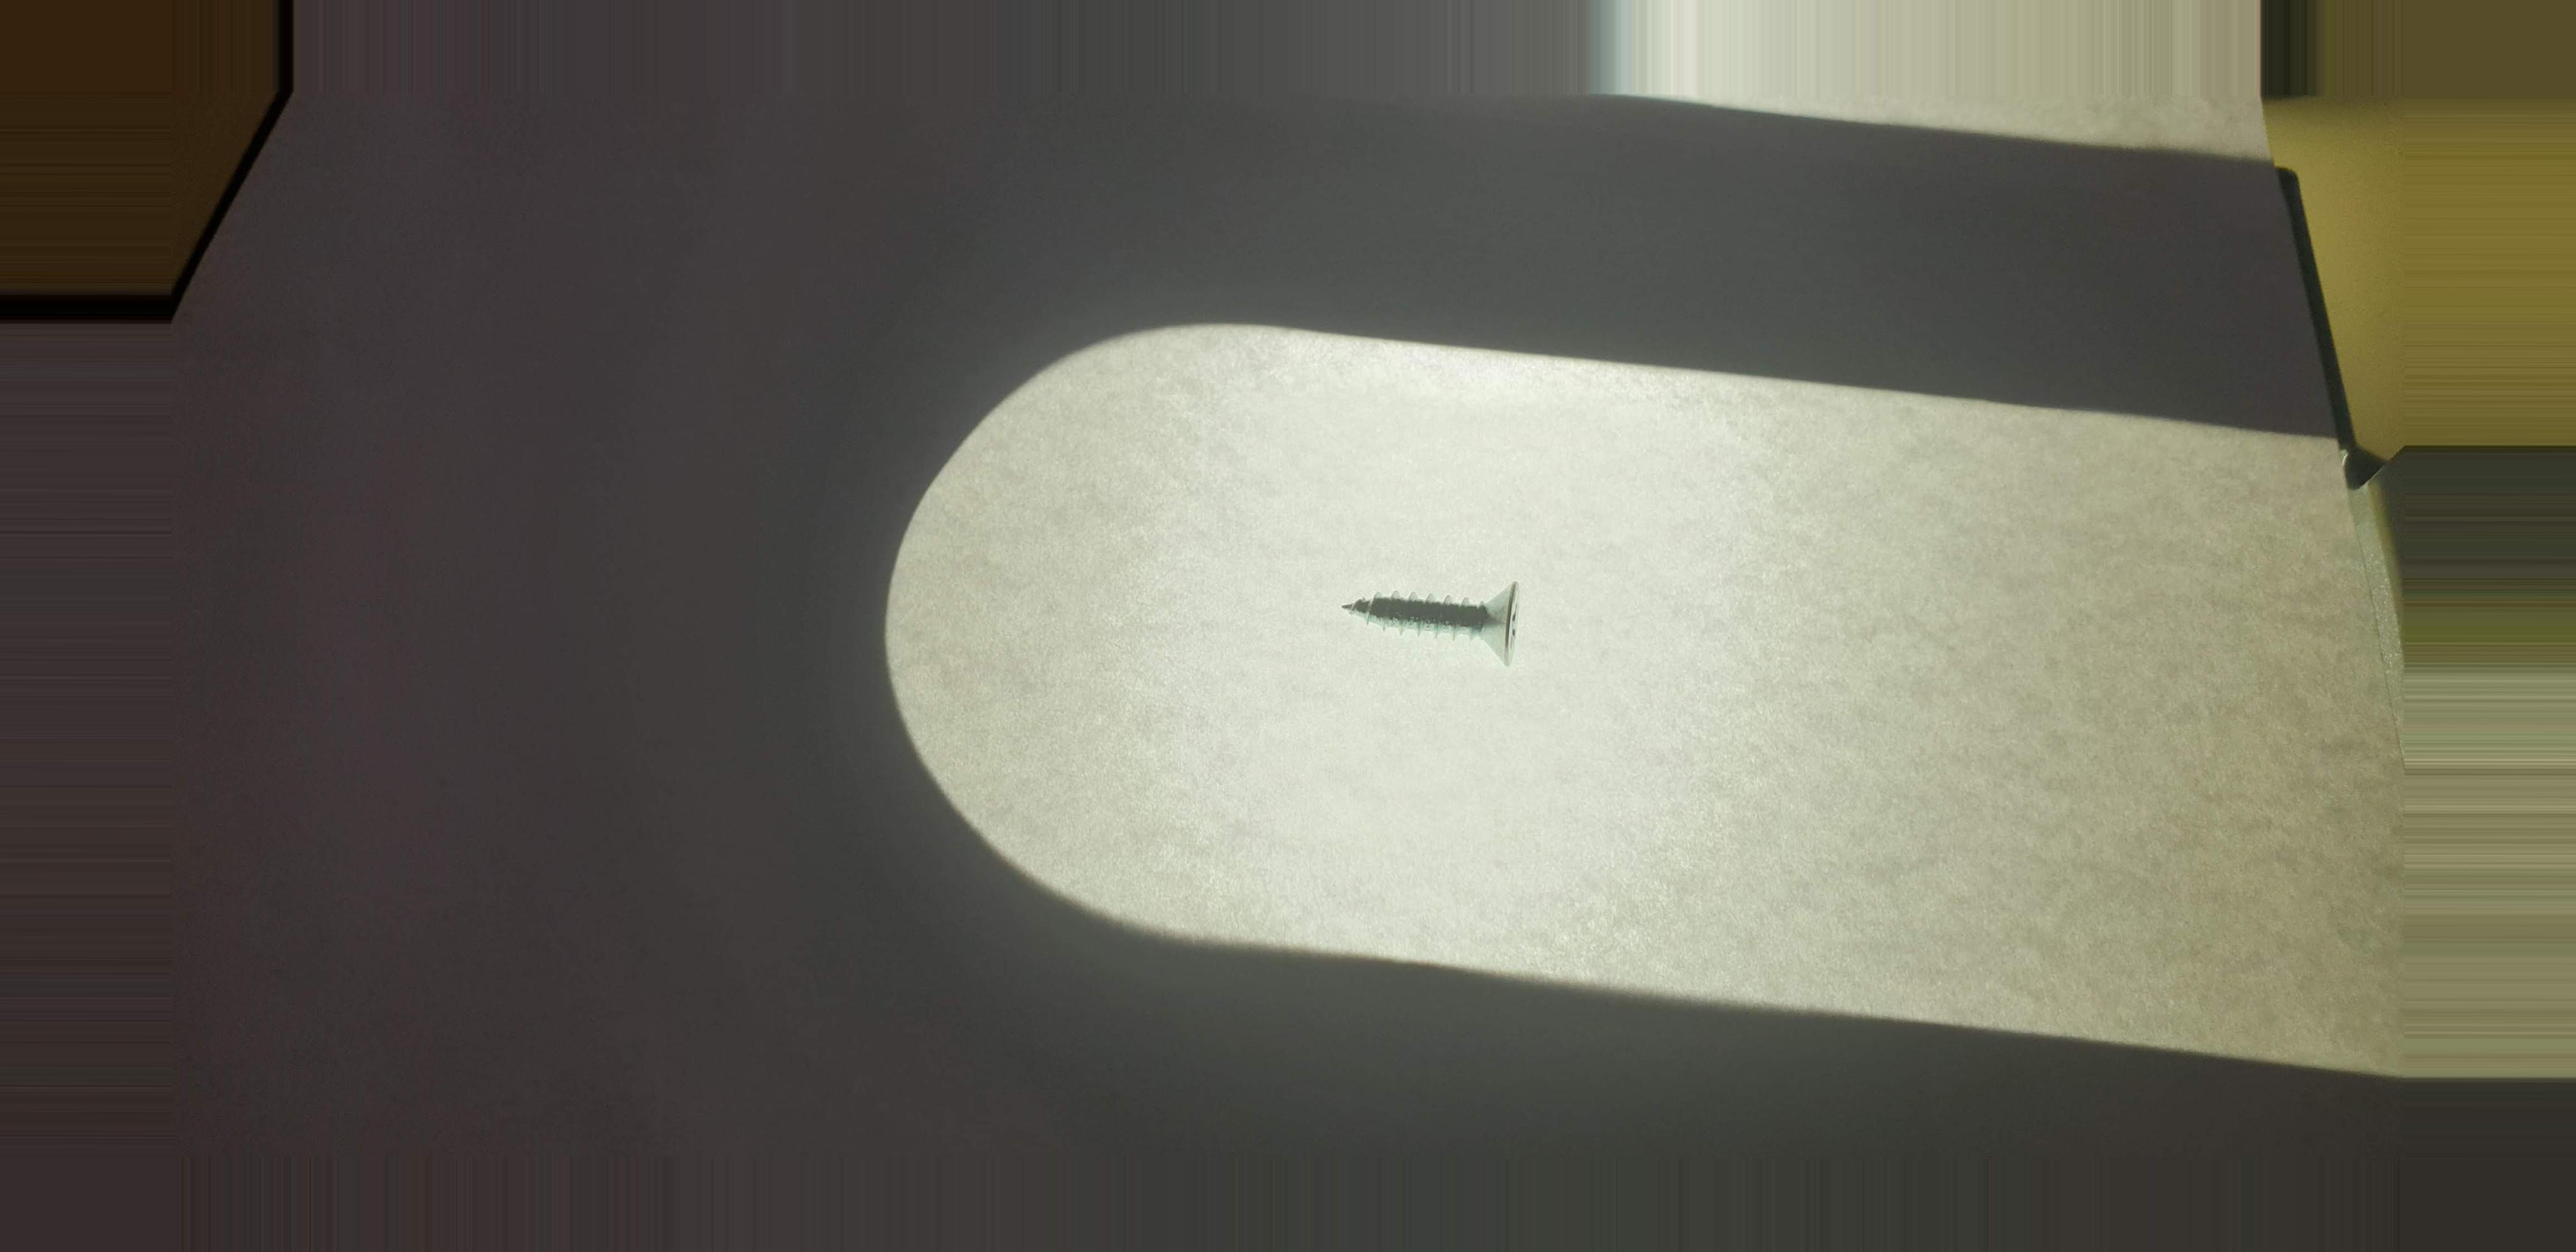S003: (1331, 557, 1536, 677)
